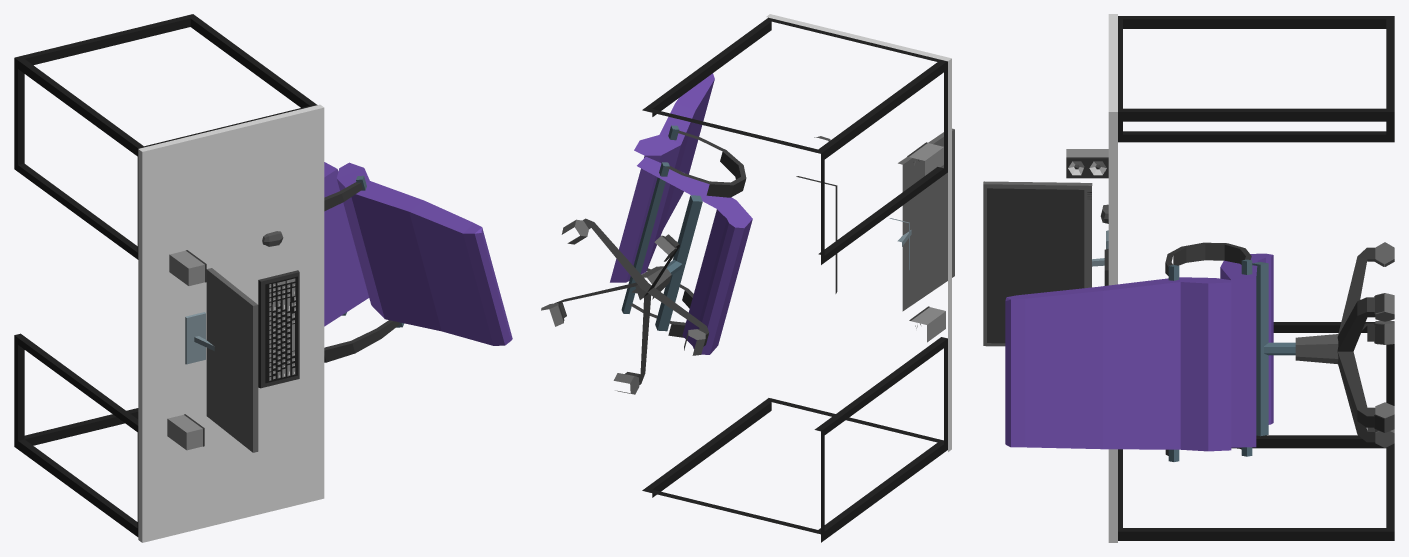
The model's file is desktop.glb.
The picture shows the model from 3 angles, left to right: view 1: azimuth 30°, elevation 25°; view 2: azimuth 150°, elevation 25°; view 3: azimuth 270°, elevation 25°; orthographic projection. The views are drawn at different scales.
Parts seen in each view (by area): view 1: 图层_04; view 2: 图层_04; view 3: 图层_04.
Boxes of the visible parts, bbox=[...] form: 图层_04: bbox=[14, 14, 512, 542]; 图层_04: bbox=[541, 14, 954, 542]; 图层_04: bbox=[983, 14, 1394, 542].
Bounding box in the file's own units: 1.04 × 1.19 × 1.03.
Materials: 3 (3 with a texture image).
